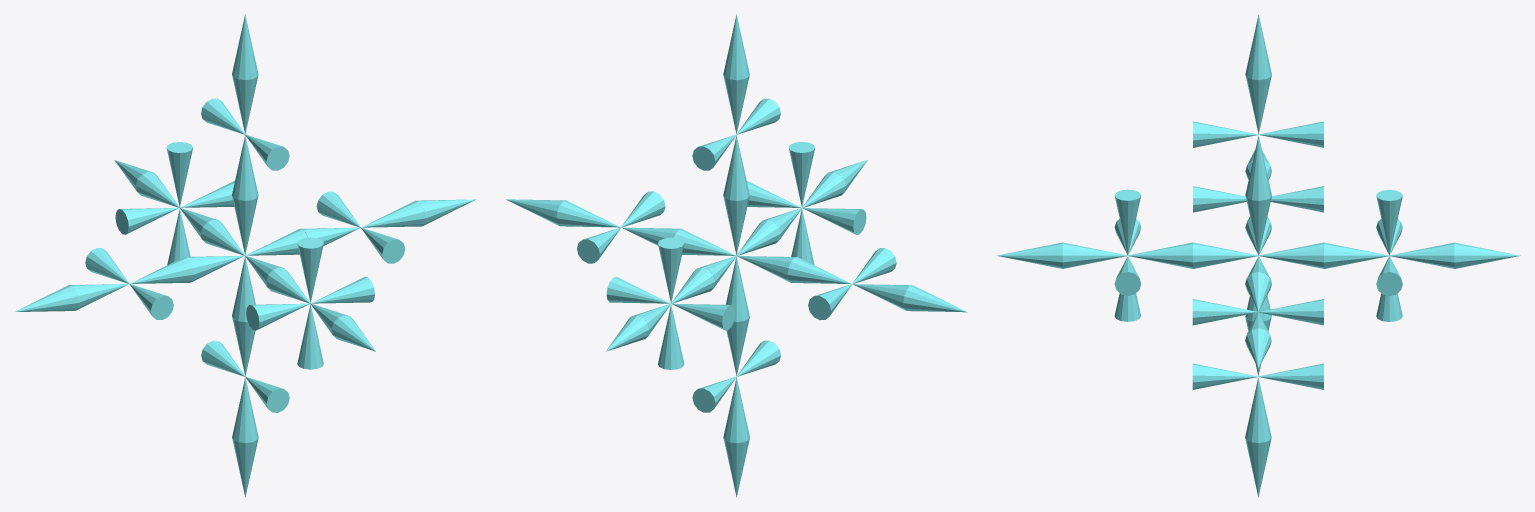
File: snijeg.fbx
3 views of the same model, side by side, from view 1: azimuth 30°, elevation 25°; view 2: azimuth 150°, elevation 25°; view 3: azimuth 270°, elevation 25° (orthographic).
Visible parts, largest first — view 1: Snijeg; view 2: Snijeg; view 3: Snijeg.
Part boxes in pixels (left/top/right/bottom): Snijeg: left=15, top=14, right=476, bottom=497; Snijeg: left=506, top=14, right=967, bottom=497; Snijeg: left=997, top=15, right=1520, bottom=497.
Size of the model in its own units: 1305 by 1305 by 1283.
